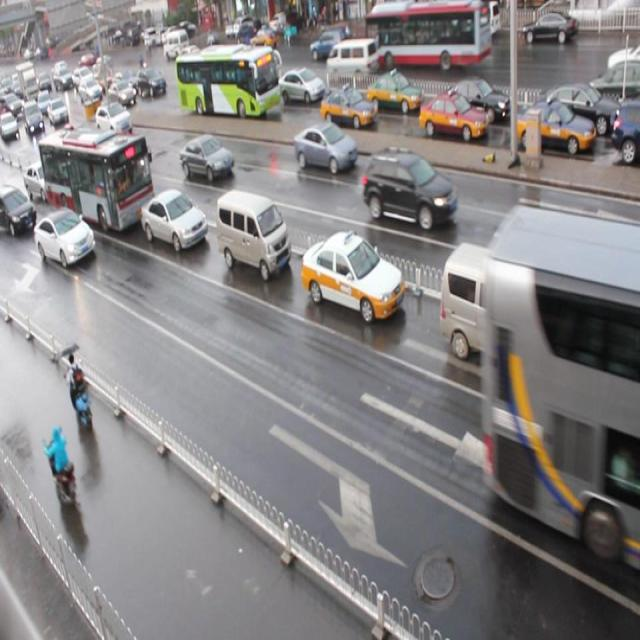car: (300, 229, 403, 321), (364, 150, 456, 230), (534, 79, 619, 139), (515, 101, 595, 161), (140, 188, 208, 252), (34, 207, 96, 268), (418, 92, 488, 143), (295, 122, 358, 177), (608, 330, 640, 432), (443, 77, 510, 121), (180, 135, 233, 183), (319, 85, 375, 130), (367, 70, 422, 115), (103, 136, 152, 180), (274, 64, 326, 104), (611, 218, 640, 287), (1, 183, 36, 238), (610, 100, 640, 161), (22, 160, 62, 204), (95, 102, 134, 141), (108, 80, 136, 108), (139, 68, 165, 97)
truck: (438, 240, 568, 389), (215, 188, 290, 284)
van: (480, 200, 640, 569), (38, 127, 154, 235), (176, 44, 281, 117)
